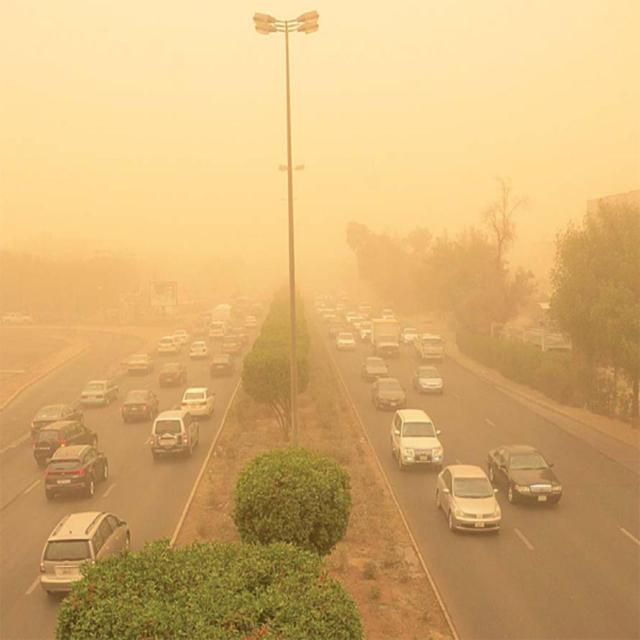Car: (41, 513, 132, 596), (486, 444, 563, 506), (436, 464, 501, 533), (44, 447, 110, 499), (390, 408, 443, 469), (34, 420, 97, 466), (149, 410, 199, 456), (30, 404, 84, 436), (120, 389, 160, 422), (372, 378, 406, 412), (180, 388, 216, 418), (80, 380, 119, 406), (412, 366, 443, 394), (361, 356, 390, 382), (159, 363, 188, 388), (208, 354, 236, 376), (128, 354, 154, 375), (157, 336, 181, 355), (1, 310, 31, 325), (220, 336, 241, 354), (336, 332, 356, 350), (189, 341, 210, 358), (401, 327, 420, 345), (172, 330, 192, 345), (359, 321, 371, 339), (243, 316, 258, 328)
Truck: (370, 316, 401, 358), (413, 333, 445, 361), (214, 304, 235, 324)
Van: (208, 321, 228, 341)
